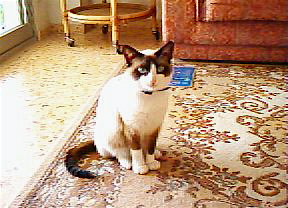cat: (65, 41, 177, 180)
